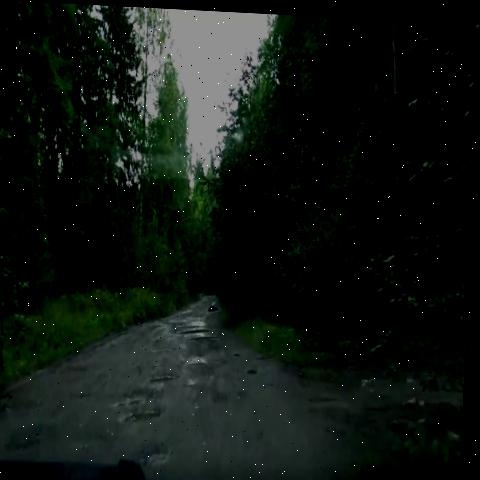pothole: (145, 431, 183, 476), (124, 377, 173, 409), (123, 405, 171, 433), (186, 348, 214, 376), (206, 289, 229, 319), (159, 365, 186, 390), (179, 322, 218, 338), (231, 339, 249, 367), (247, 357, 266, 383), (192, 332, 227, 345)
